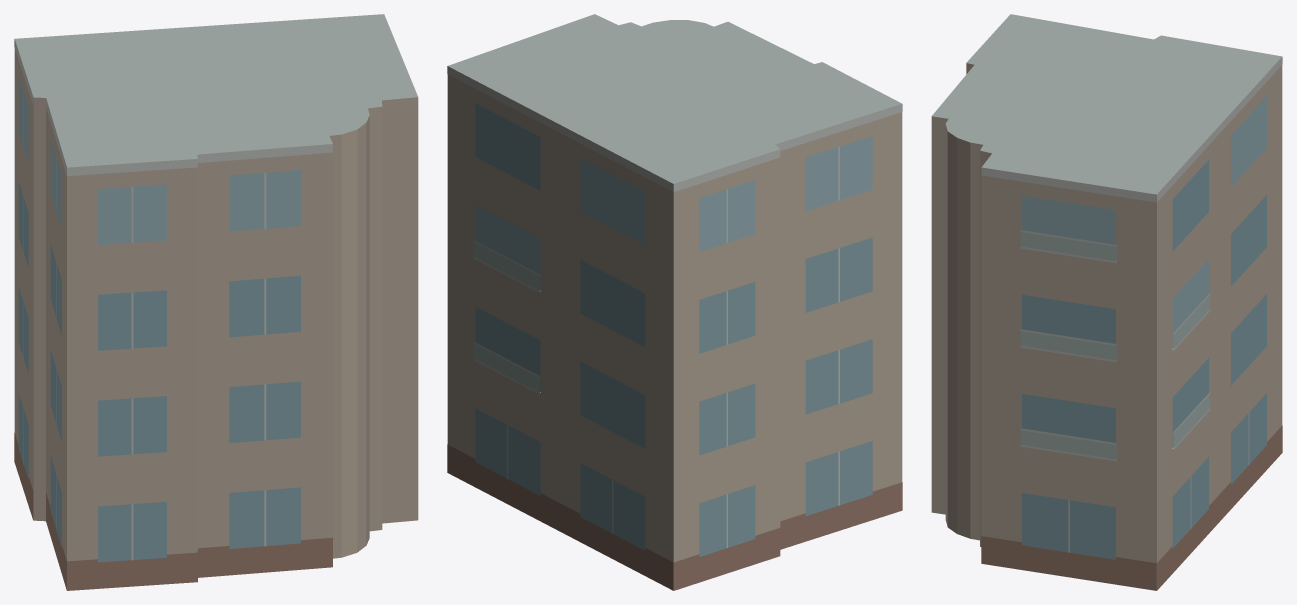
The model's file is survey-upis-32486426.glb.
3 renders of one model, left to right at view 1: azimuth 30°, elevation 25°; view 2: azimuth 150°, elevation 25°; view 3: azimuth 270°, elevation 25°, orthographic. The views are drawn at different scales.
Parts seen in each view (by area): view 1: survey-upis-32486426.tmp; view 2: survey-upis-32486426.tmp; view 3: survey-upis-32486426.tmp.
Boxes of the visible parts, x1,y1,x2,y2 form: survey-upis-32486426.tmp: (14,14,418,590); survey-upis-32486426.tmp: (447,14,902,590); survey-upis-32486426.tmp: (931,14,1282,590).
Size of the model in its own units: 11.84 by 12.1 by 9.72.
